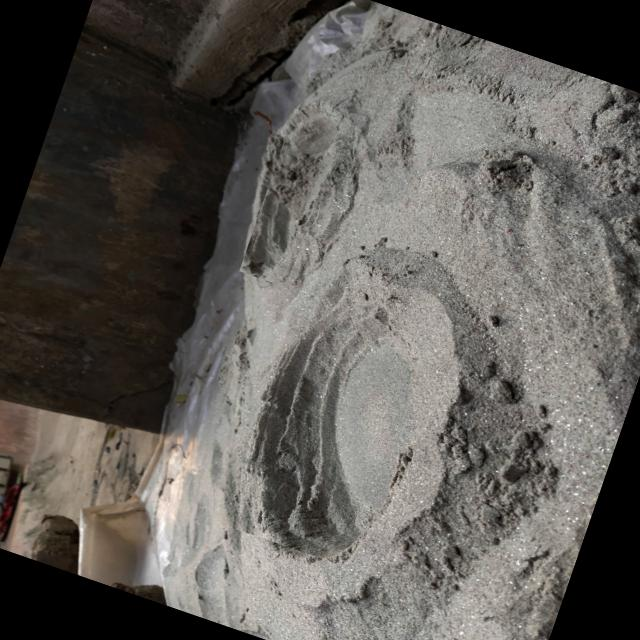C20: (254, 309, 450, 557), (248, 120, 341, 279)
